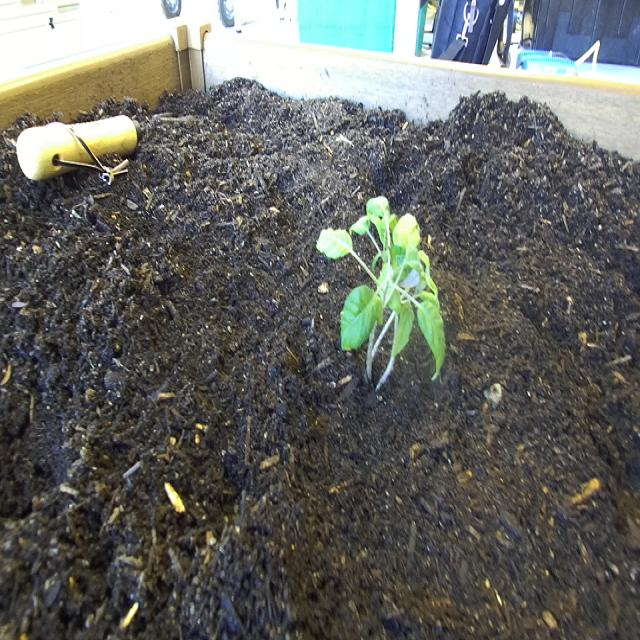Healthy: (308, 178, 455, 413)
